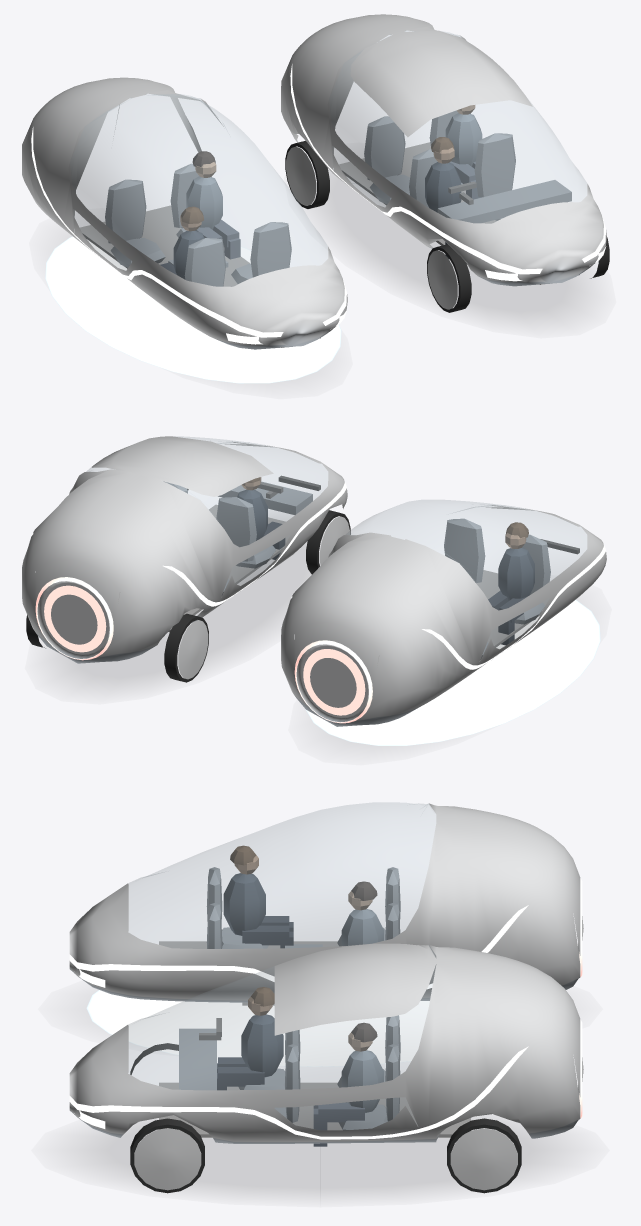
Rendered from car-family-2127.glb.
3 views of the same model, one above another, from view 1: azimuth 30°, elevation 25°; view 2: azimuth 150°, elevation 25°; view 3: azimuth 270°, elevation 25° (orthographic). The views are drawn at different scales.
Visible parts, largest first — view 1: car_pod_shell, car_human_shell, car_pod_parts, car_human_parts; view 2: car_pod_shell, car_human_shell, car_pod_parts, car_human_parts; view 3: car_human_shell, car_pod_shell, car_human_parts, car_pod_parts.
Boxes of the visible parts, x1,y1,x2,y2 form: car_pod_shell: (22, 77, 347, 349); car_human_shell: (281, 14, 606, 286); car_pod_parts: (45, 151, 341, 383); car_human_parts: (285, 105, 609, 314); car_pod_shell: (281, 500, 606, 726); car_human_shell: (22, 436, 347, 663); car_pod_parts: (305, 518, 600, 745); car_human_parts: (26, 475, 350, 682); car_human_shell: (69, 943, 583, 1143); car_pod_shell: (69, 802, 583, 1002); car_human_parts: (99, 987, 541, 1194); car_pod_parts: (86, 845, 429, 1066).
Bounding box in the file's own units: 5.6 × 1.91 × 5.5.
